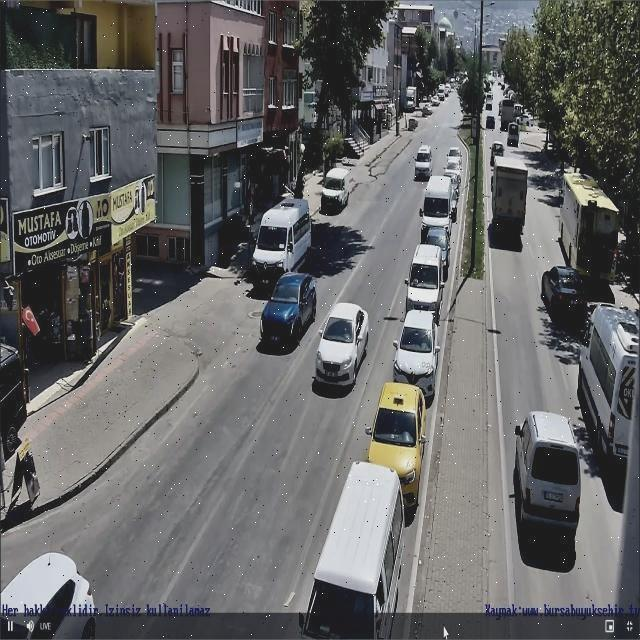Car: (514, 412, 582, 540), (1, 554, 96, 636), (365, 385, 427, 510), (314, 302, 372, 388), (392, 310, 443, 399), (260, 272, 318, 348), (0, 343, 28, 453), (406, 243, 446, 310), (541, 266, 587, 320), (422, 226, 452, 274), (320, 167, 352, 211), (443, 165, 462, 208), (446, 146, 462, 168), (506, 122, 520, 146), (490, 141, 504, 159), (519, 113, 533, 126), (512, 104, 524, 118), (486, 115, 495, 129), (405, 98, 415, 110), (422, 105, 432, 116), (431, 96, 440, 106), (437, 90, 445, 100), (486, 100, 492, 110), (445, 84, 451, 93), (438, 84, 444, 92)
Van: (304, 459, 408, 636), (578, 306, 638, 471), (252, 198, 310, 278), (422, 175, 454, 231), (414, 144, 432, 178)
